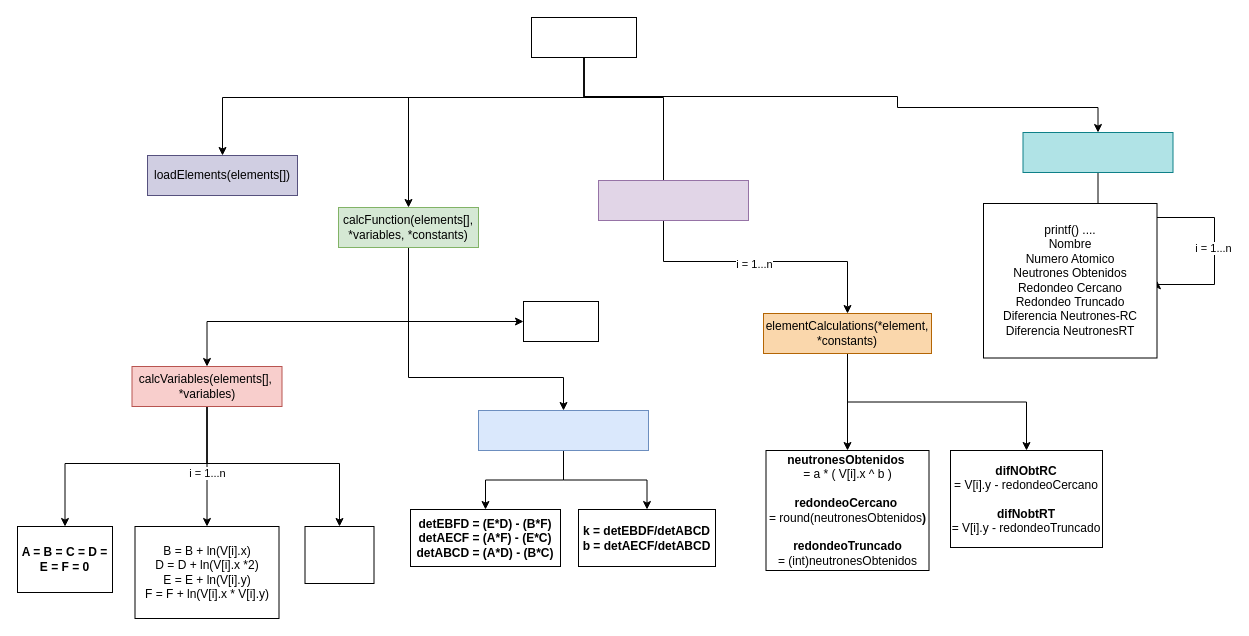
Some shapes in this 1249 by 636 pixel diagram are drawn without their labels. Here are the shapes that lost their labels. From the top down, the centre of each, then its label:
At pixel 583 37: "Principal".
At pixel 1097 152: "showElements(elements[], *variables, *constants)".
At pixel 673 200: "verifyFunction(elements[], *constants)".
At pixel 560 321: "a = e^k".
At pixel 563 430: "solveLinearSystem(*variables, *constants)".
At pixel 339 555: "A = n C = B".
